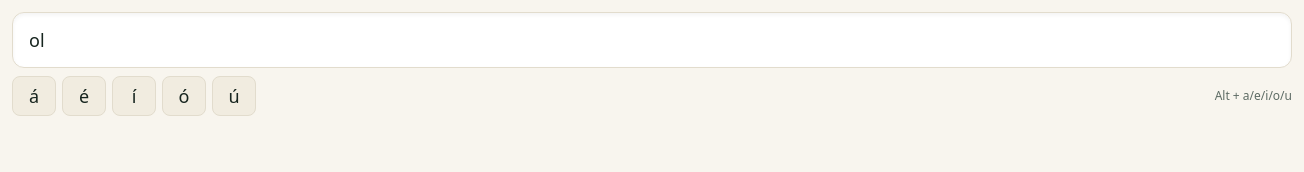
Test: FadaInput › inserts a fada vowel at the cursor from the on-screen keys
Click the field named "answer".
click(652, 40)  # box [12,12,1292,68]
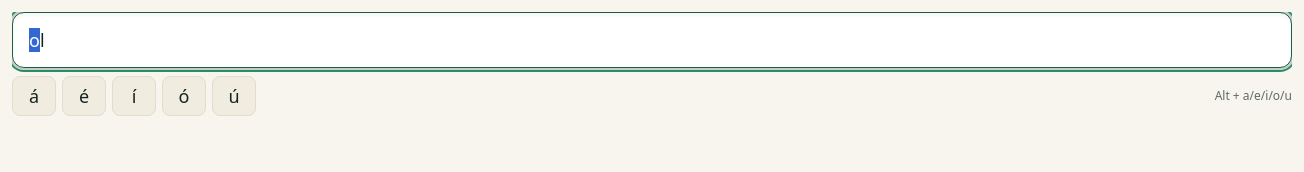
Click the button named "Insert ó".
click(184, 96)  # box [162,76,206,116]
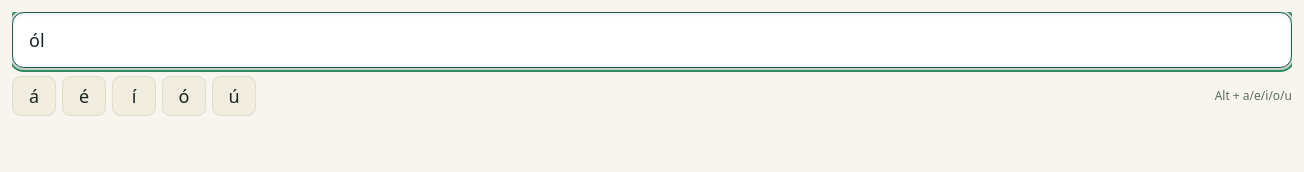
Check: the field named "answer" holds "ól", box [12,12,1292,68]
